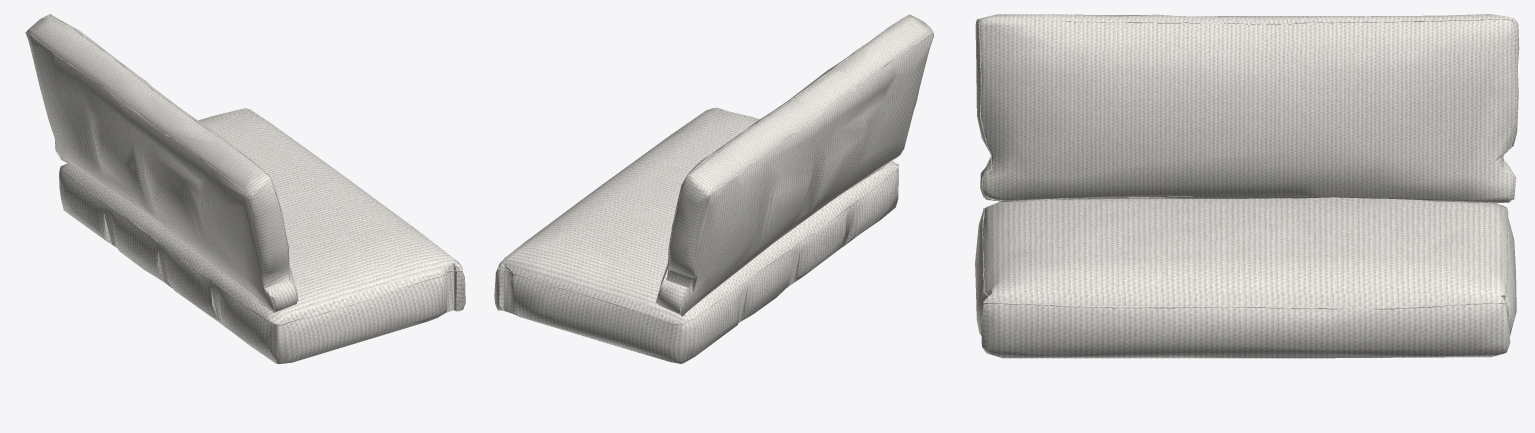
File: SM_Sofa_1.fbx
The picture shows the model from 3 angles, left to right: view 1: azimuth 30°, elevation 25°; view 2: azimuth 150°, elevation 25°; view 3: azimuth 270°, elevation 25°; orthographic projection. The views are drawn at different scales.
Parts seen in each view (by area): view 1: Sofa_Buttom, Sofa_Top; view 2: Sofa_Buttom, Sofa_Top; view 3: Sofa_Top, Sofa_Buttom.
Boxes of the visible parts, bbox=[...] form: Sofa_Buttom: bbox=[59, 108, 465, 363]; Sofa_Top: bbox=[25, 14, 298, 312]; Sofa_Buttom: bbox=[494, 107, 898, 363]; Sofa_Top: bbox=[656, 14, 933, 316]; Sofa_Top: bbox=[975, 14, 1519, 203]; Sofa_Buttom: bbox=[975, 197, 1516, 358].
Size of the model in its own units: 0.753 by 0.733 by 1.25.
Materials: 2 (2 with a texture image).
